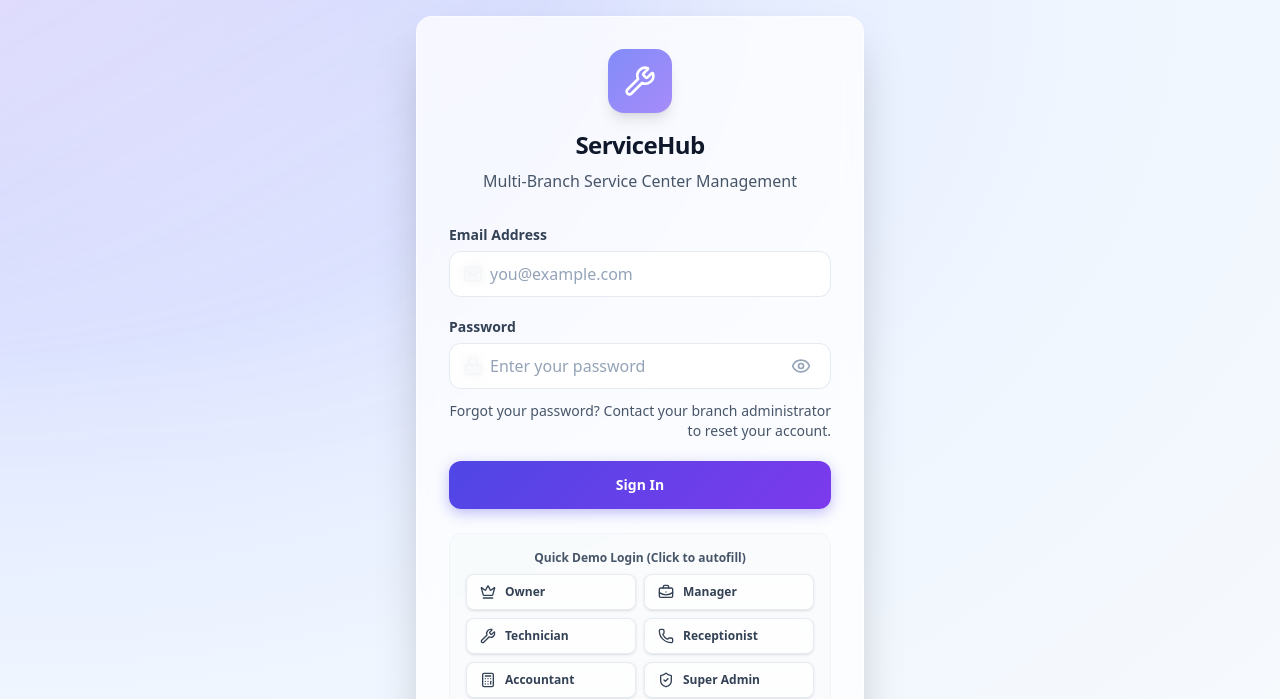
Scenario: Login page › displays error message when login throws
Type "owner@test.com" into the field with placeholder "you@example.com" at (640, 274), box left=449, top=251, right=831, bottom=297
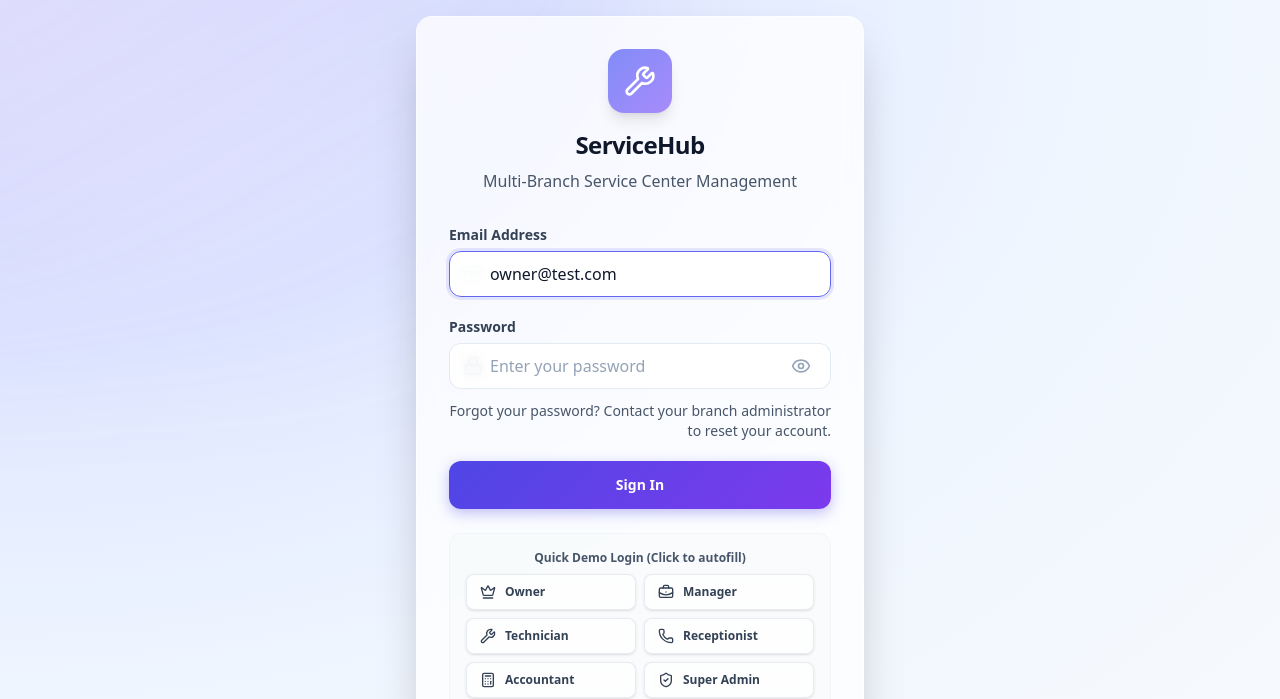
Type "wrongpass" into the password field with placeholder "Enter your password" at (640, 366), box left=449, top=343, right=831, bottom=389
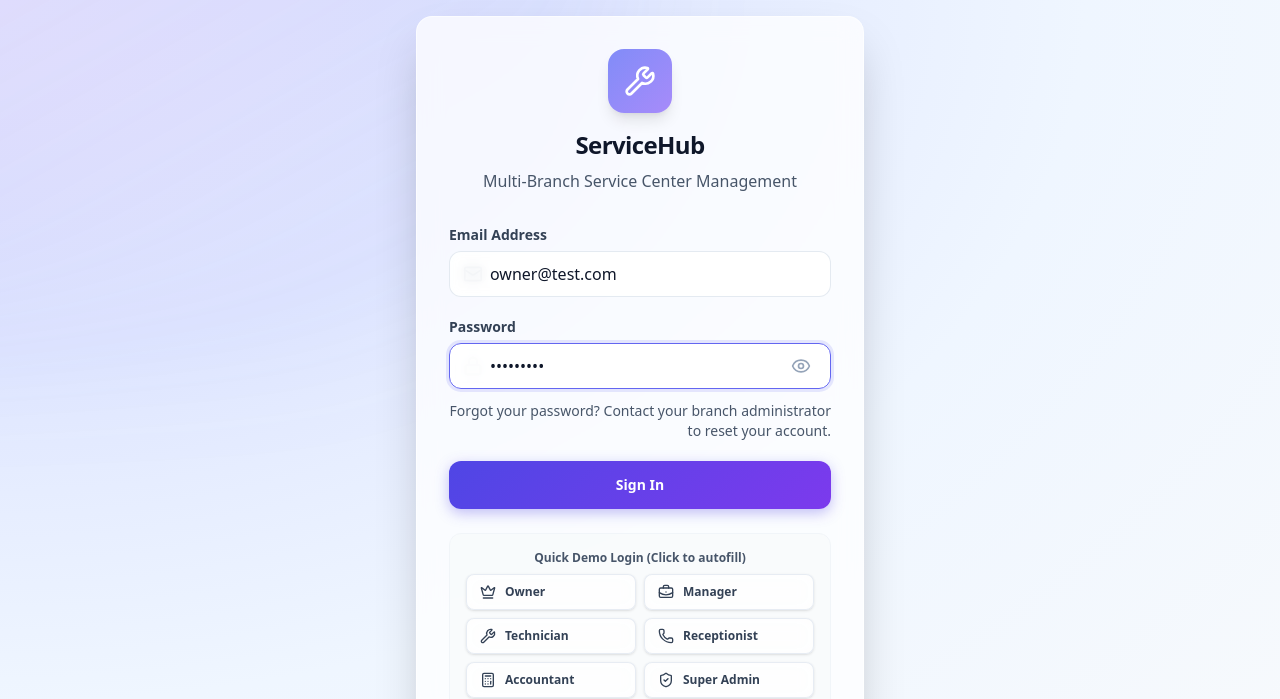
Click the button "Sign In" at (640, 485), box left=449, top=461, right=831, bottom=509
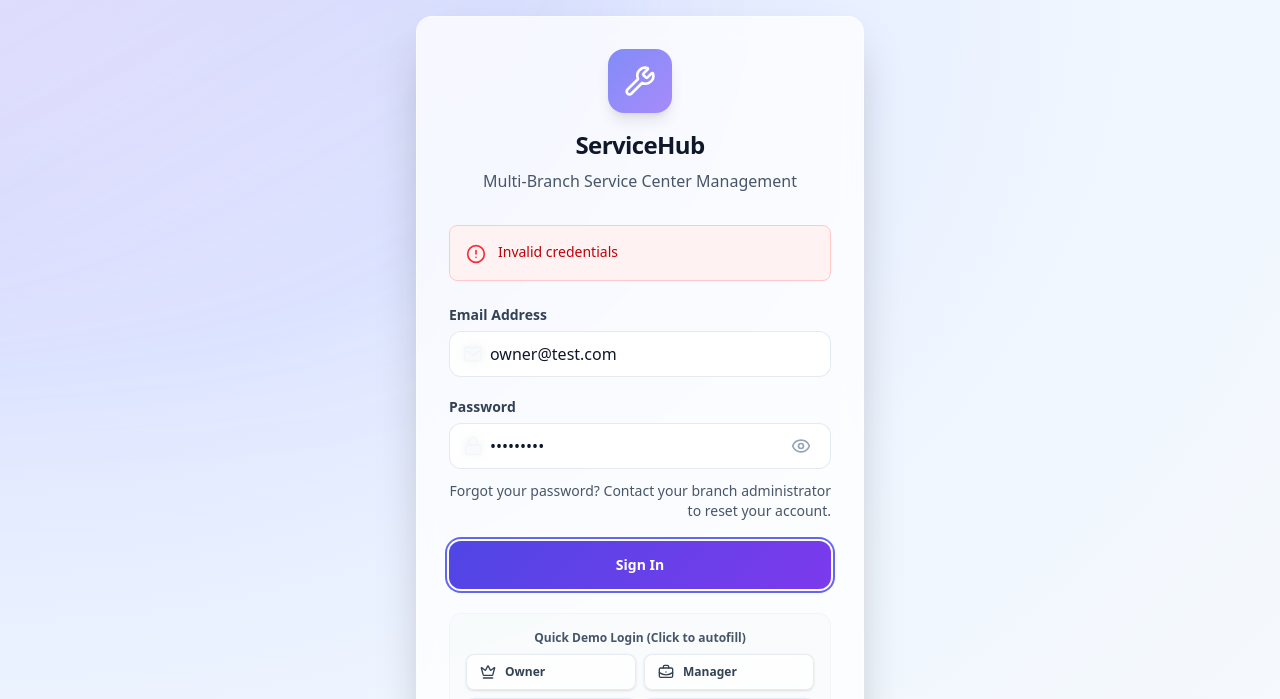
Check: the text "Invalid credentials" is shown, box left=498, top=242, right=618, bottom=262
